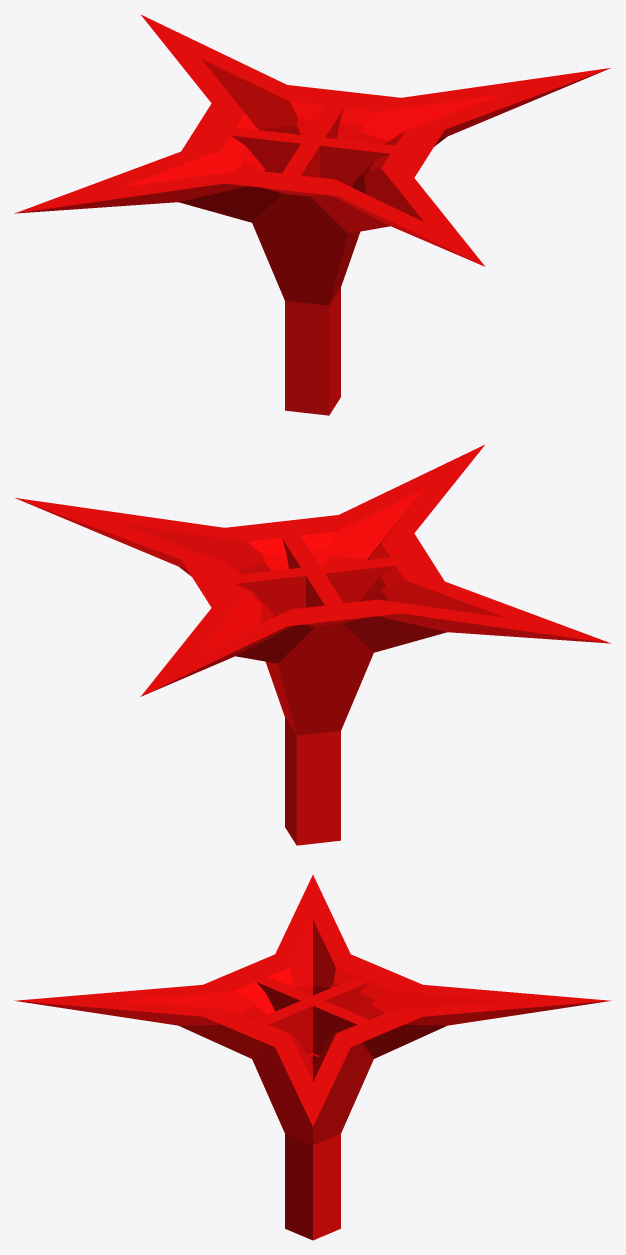
File: wholecolumn.glb
3 renders of one model, top to bottom at view 1: azimuth 30°, elevation 25°; view 2: azimuth 150°, elevation 25°; view 3: azimuth 270°, elevation 25°, orthographic. The views are drawn at different scales.
Visible parts, largest first — view 1: columns; view 2: columns; view 3: columns.
Boxes of the visible parts, x1,y1,x2,y2 form: columns: [14, 15, 610, 415]; columns: [15, 445, 611, 845]; columns: [14, 875, 611, 1240].
Size of the model in its own units: 7.46 by 3.14 by 7.46.
